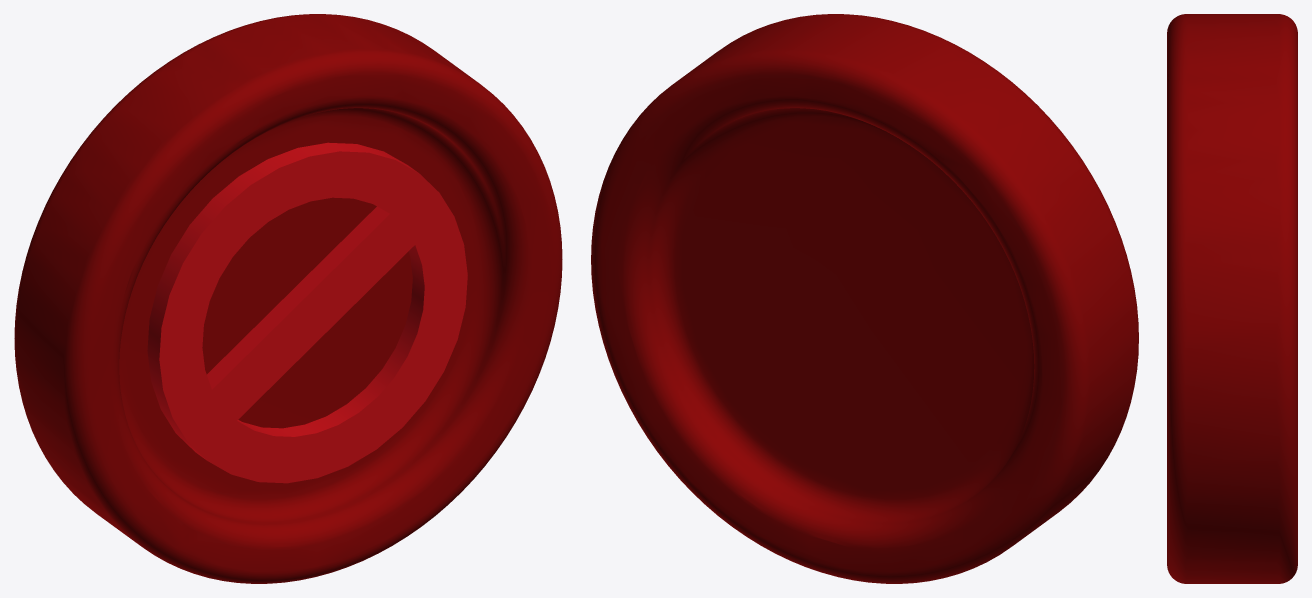
Rendered from refuse.glb.
The picture shows the model from 3 angles, left to right: view 1: azimuth 30°, elevation 25°; view 2: azimuth 150°, elevation 25°; view 3: azimuth 270°, elevation 25°; orthographic projection.
Parts seen in each view (by area): view 1: Cylinder.001, Circle.001; view 2: Cylinder.001; view 3: Cylinder.001.
Boxes of the visible parts, bbox=[...] form: Cylinder.001: bbox=[14, 14, 562, 583]; Circle.001: bbox=[147, 142, 467, 483]; Cylinder.001: bbox=[591, 14, 1138, 583]; Cylinder.001: bbox=[1167, 14, 1297, 583].
Size of the model in its own units: 0.2216 by 0.2216 by 0.0509.
